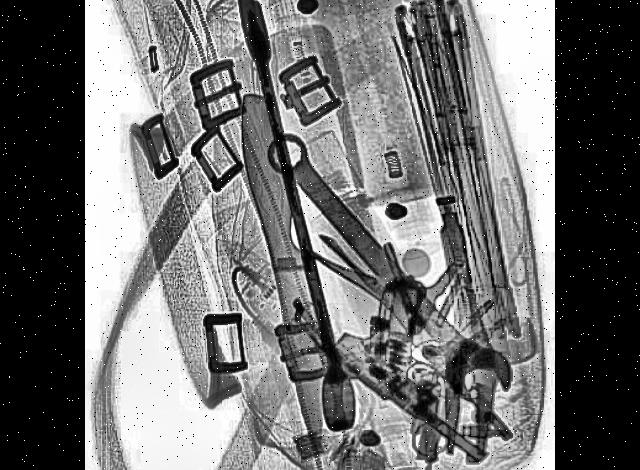Gun: (330, 244, 520, 466)
Knife: (234, 78, 348, 460)
Wrench: (256, 112, 522, 428)
